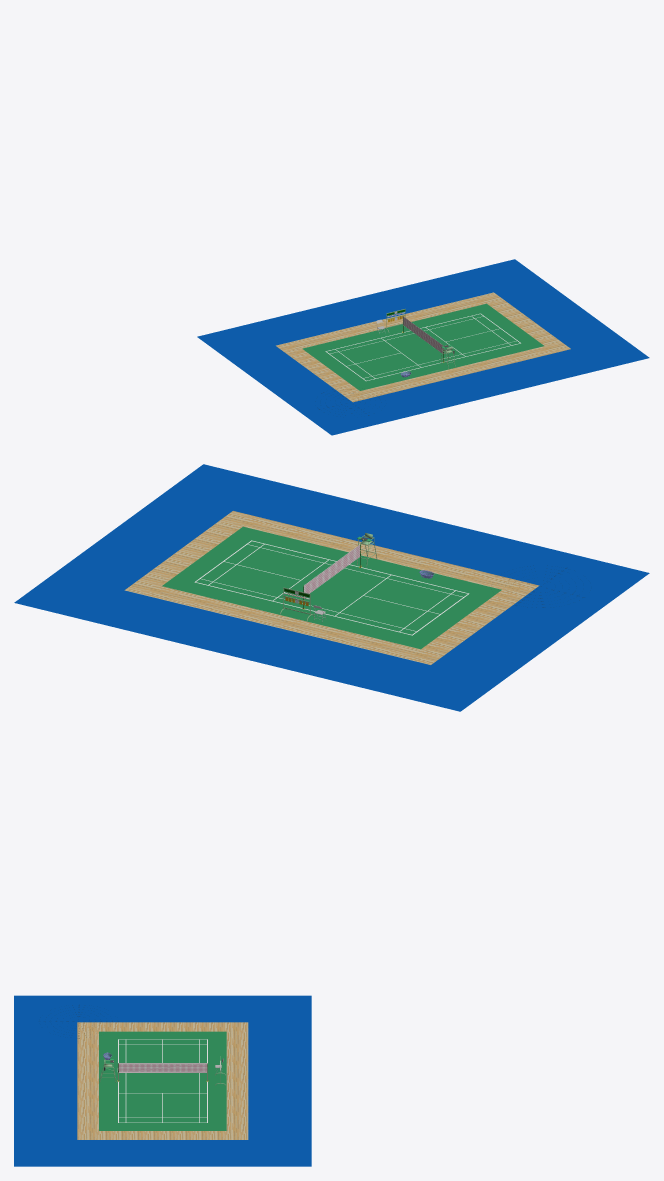
The model's file is Court.FBX.
The picture shows the model from 3 angles, top to bottom: view 1: azimuth 30°, elevation 25°; view 2: azimuth 150°, elevation 25°; view 3: azimuth 270°, elevation 25°; orthographic projection. The views are drawn at different scales.
Parts seen in each view (by area): view 1: Group_001; view 2: Group_001, Layer0_001; view 3: Group_001, Layer0_001.
Boxes of the visible parts, left/top/right/bottom form: Group_001: left=197, top=259, right=649, bottom=435; Group_001: left=14, top=464, right=649, bottom=711; Layer0_001: left=304, top=545, right=359, bottom=597; Group_001: left=14, top=995, right=311, bottom=1166; Layer0_001: left=118, top=1063, right=206, bottom=1072.
Size of the model in its own units: 39.28 by 23.71 by 56.42.
24 materials, 5 textured.
